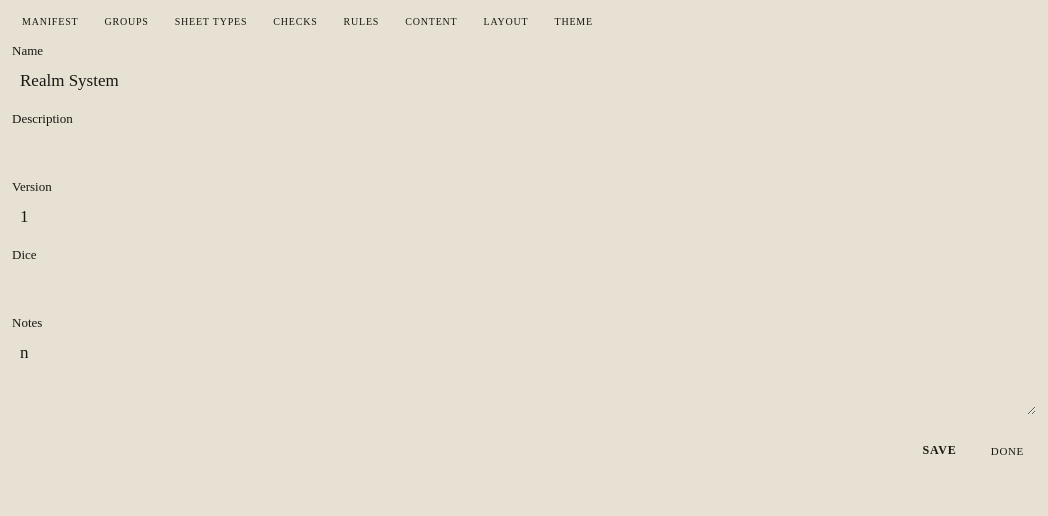
Scenario: Save never commits an invalid draft
The width and height of the screenshot is (1048, 516).
Clear the field labelled "Name": {"x": 524, "y": 81} [12,63,1036,99]
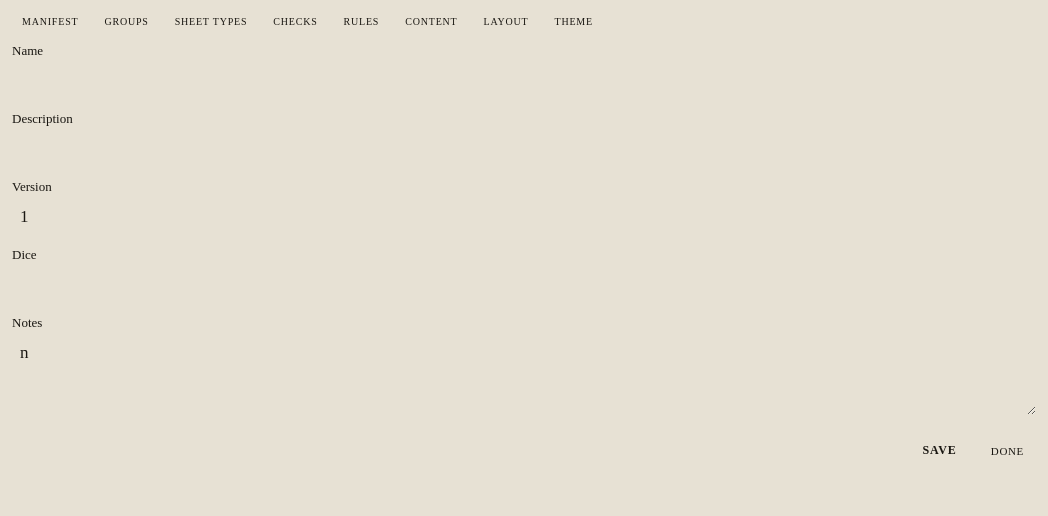
Click the button "Save": {"x": 940, "y": 450} [908,435,971,466]
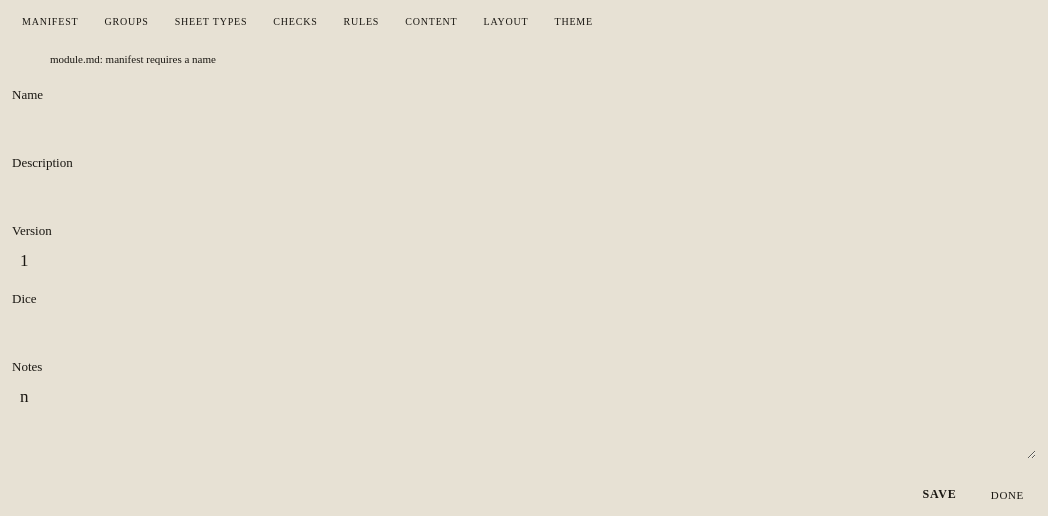
Now the text "module.md: manifest requires a name" is shown, box [50,53,216,65]
